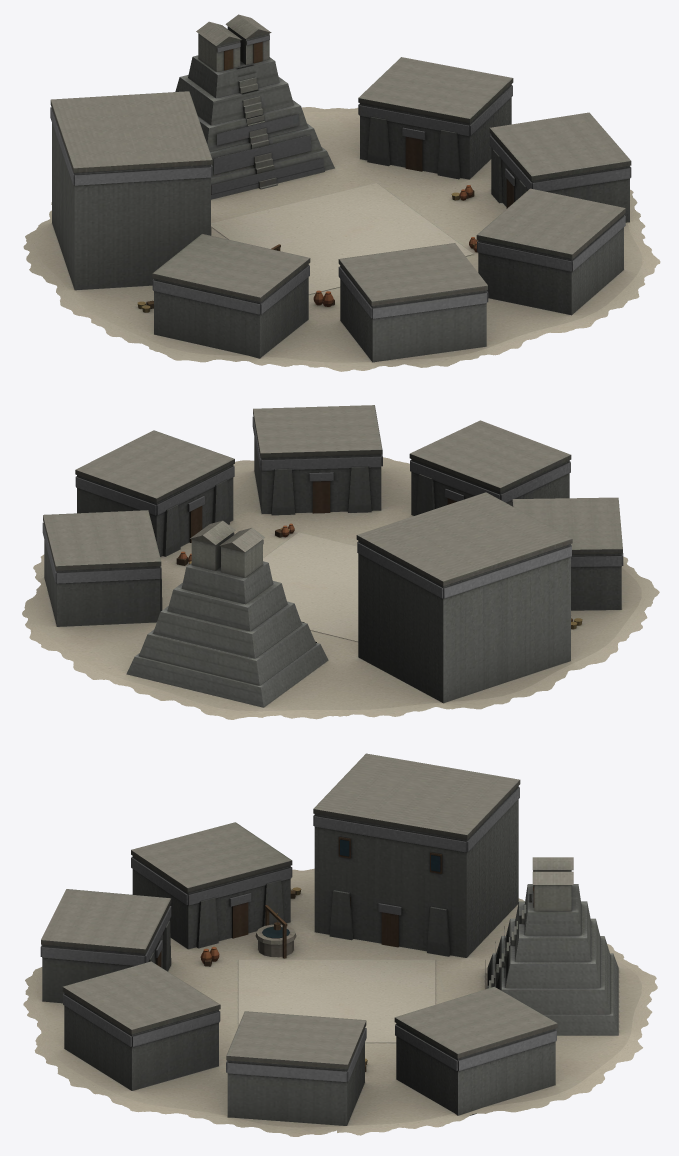
The model's file is kingdoms-town-small-a-americas.glb.
The picture shows the model from 3 angles, top to bottom: view 1: azimuth 30°, elevation 25°; view 2: azimuth 150°, elevation 25°; view 3: azimuth 270°, elevation 25°; orthographic projection.
Parts seen in each view (by area): view 1: LOD0; view 2: LOD0; view 3: LOD0.
Boxes of the visible parts, left/top/right/bottom form: LOD0: left=23, top=14, right=660, bottom=371; LOD0: left=22, top=405, right=659, bottom=719; LOD0: left=23, top=753, right=657, bottom=1136.
Size of what is drawn, in the model's own units: 3.97 by 0.9545 by 3.98.
3 materials, 3 textured.
